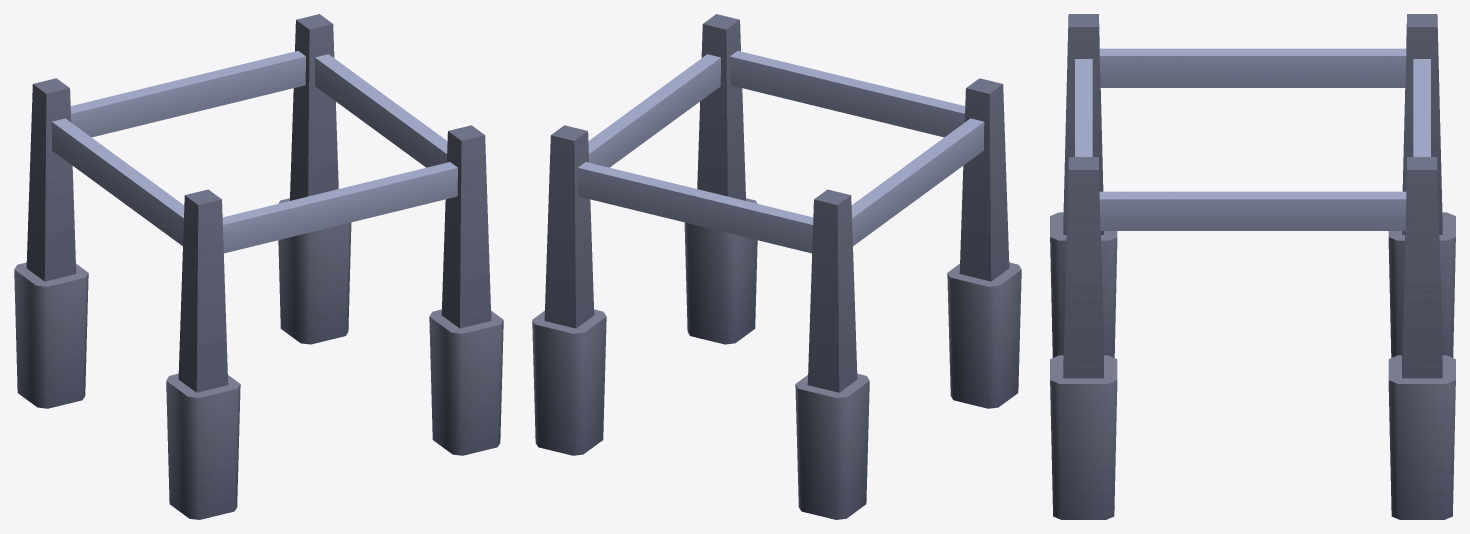
Rendered from structure-metal.glb.
The picture shows the model from 3 angles, left to right: view 1: azimuth 30°, elevation 25°; view 2: azimuth 150°, elevation 25°; view 3: azimuth 270°, elevation 25°; orthographic projection. The views are drawn at different scales.
Parts seen in each view (by area): view 1: structure-metal; view 2: structure-metal; view 3: structure-metal.
Part boxes in pixels (<box>): structure-metal: <box>14,14,503,519</box>; structure-metal: <box>532,14,1021,519</box>; structure-metal: <box>1050,14,1455,519</box>.
Size of the model in its own units: 0.5354 by 0.5 by 0.5354.
Materials: 1 (1 with a texture image).
